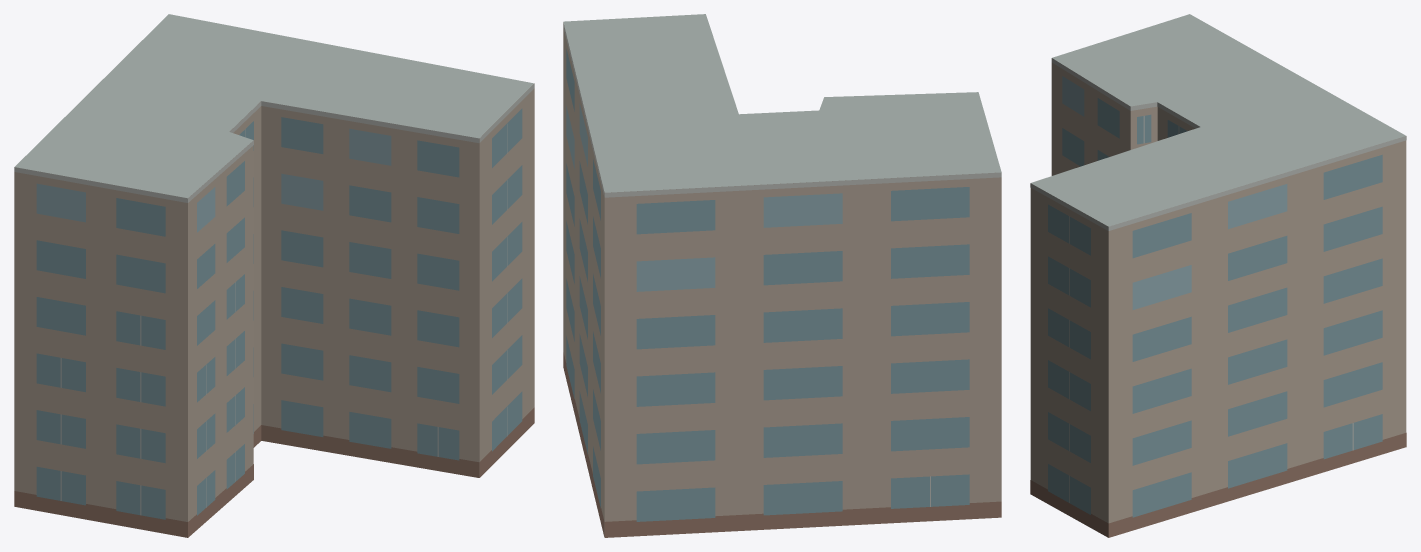
The model's file is survey-upis-33011558.glb.
3 views of the same model, side by side, from view 1: azimuth 30°, elevation 25°; view 2: azimuth 150°, elevation 25°; view 3: azimuth 270°, elevation 25° (orthographic). The views are drawn at different scales.
Parts seen in each view (by area): view 1: survey-upis-33011558.tmp; view 2: survey-upis-33011558.tmp; view 3: survey-upis-33011558.tmp.
Part boxes in pixels (x1,y1,x2,y2): survey-upis-33011558.tmp: (14, 14, 534, 537); survey-upis-33011558.tmp: (563, 14, 1001, 537); survey-upis-33011558.tmp: (1030, 14, 1406, 537).
Bounding box in the file's own units: 25.08 × 17.1 × 18.73.
